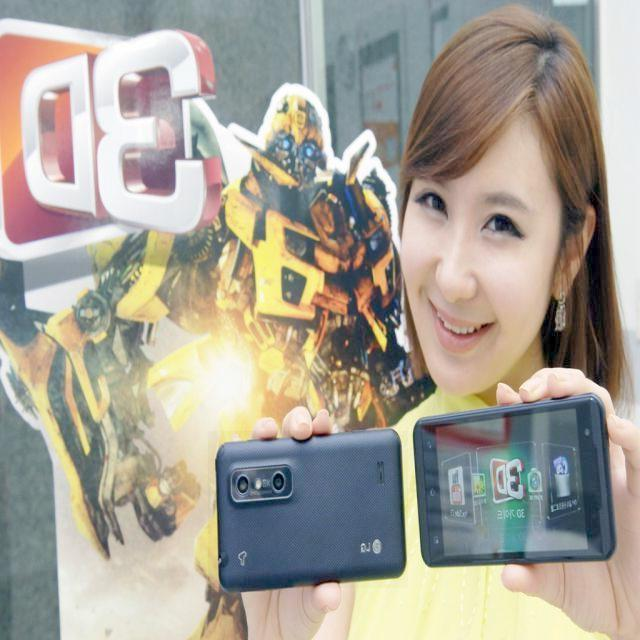mobile: (417, 395, 621, 575), (208, 431, 408, 588)
